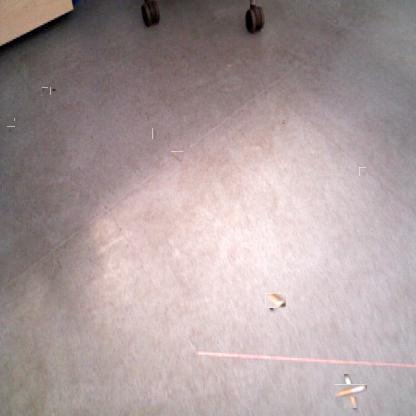dirty: (339, 379, 362, 403), (266, 291, 285, 310)
mark: (171, 151, 183, 162), (54, 256, 62, 270), (359, 167, 366, 176), (152, 127, 157, 139), (50, 88, 57, 96), (8, 126, 15, 133), (42, 88, 49, 94), (281, 119, 287, 125), (90, 135, 94, 143), (15, 117, 21, 122)
